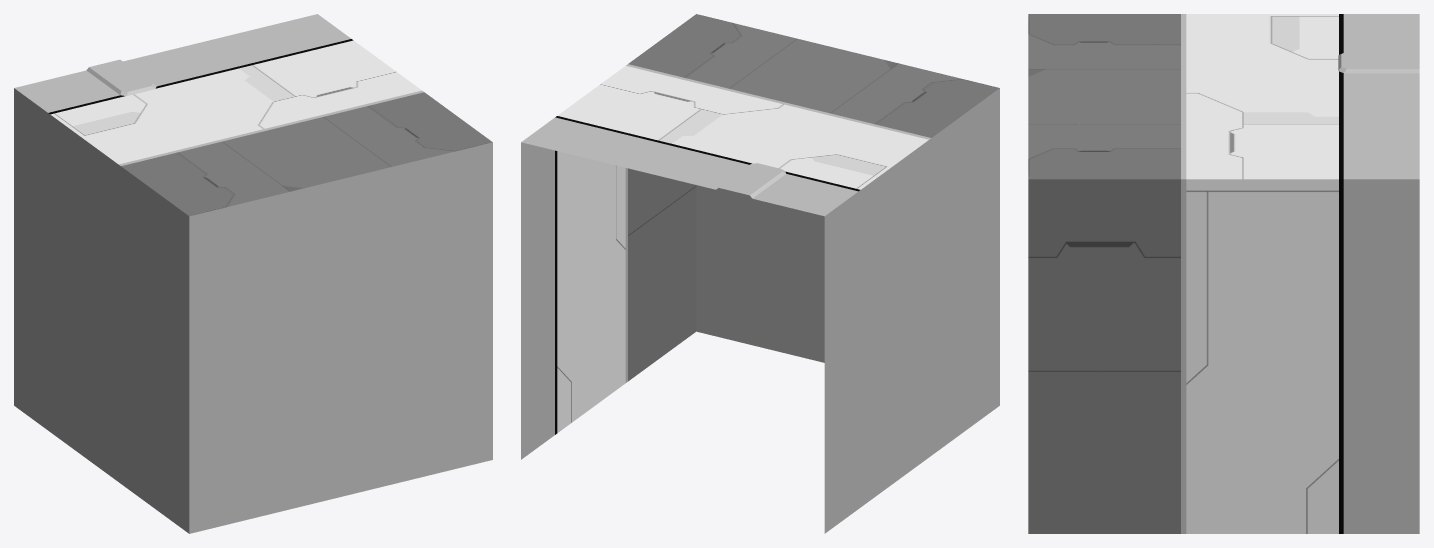
File: SM_Floor_Interior_5x5_2.fbx
3 views of the same model, side by side, from view 1: azimuth 30°, elevation 25°; view 2: azimuth 150°, elevation 25°; view 3: azimuth 270°, elevation 25° (orthographic). The views are drawn at different scales.
Parts seen in each view (by area): view 1: SM_Floor_Interior_5x5_2; view 2: SM_Floor_Interior_5x5_2; view 3: SM_Floor_Interior_5x5_2.
Part boxes in pixels (x1=…): SM_Floor_Interior_5x5_2: x1=14, y1=14, x2=492, y2=533; SM_Floor_Interior_5x5_2: x1=521, y1=14, x2=999, y2=533; SM_Floor_Interior_5x5_2: x1=1028, y1=14, x2=1419, y2=533.
Bounding box in the file's own units: 500 × 504 × 500.
